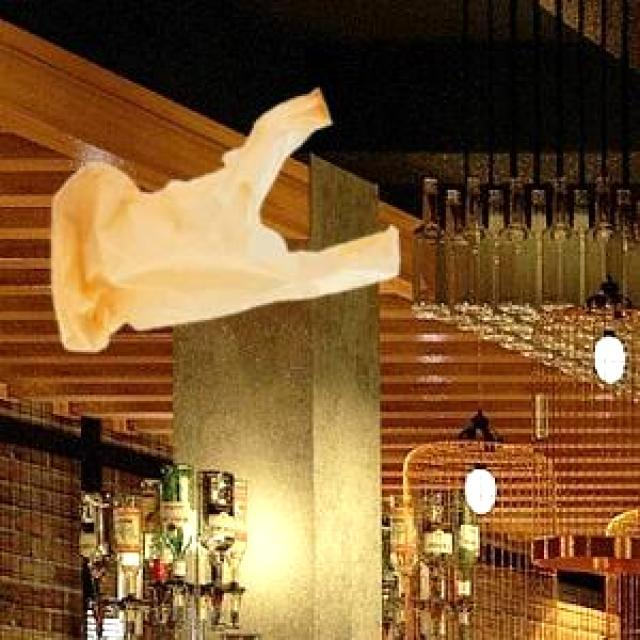Plastic_Bag: (50, 86, 396, 349)
